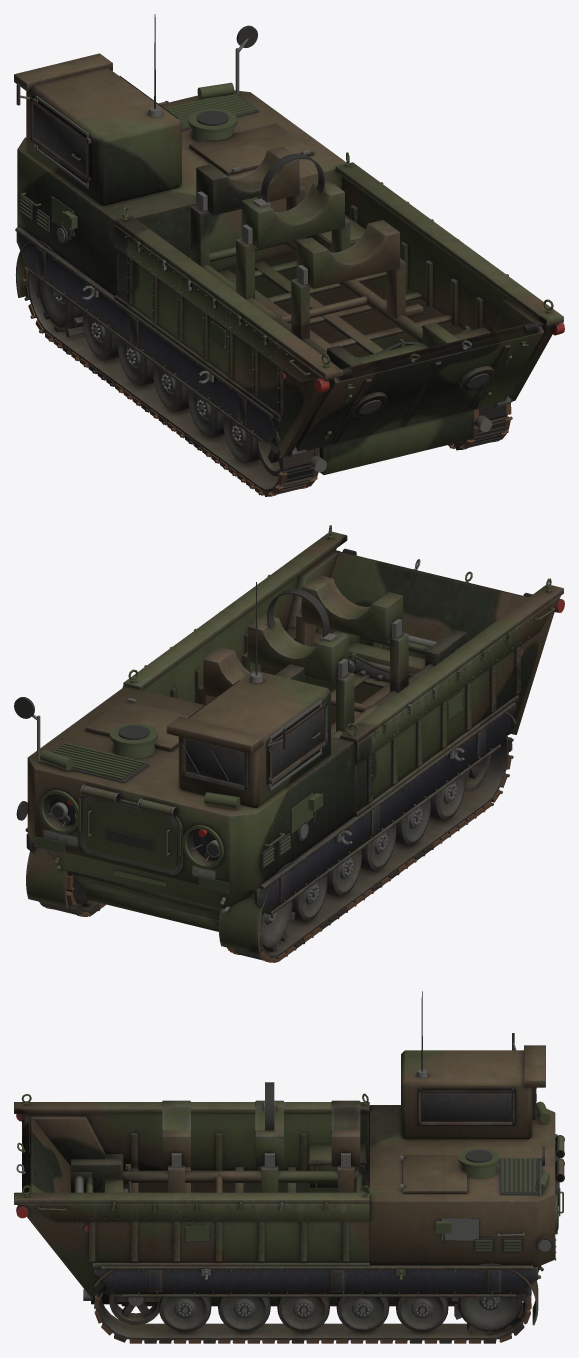
Rendered from l_lance.glb.
The picture shows the model from 3 angles, top to bottom: view 1: azimuth 30°, elevation 25°; view 2: azimuth 150°, elevation 25°; view 3: azimuth 270°, elevation 25°; orthographic projection. The views are drawn at different scales.
Visible parts, largest first — view 1: body|M752_body, pod|M752_body, rampA|M752_body, body|M752_dark, body|M752_skirt, body|M752_bodyF, body|M752_wheel, body|M752_steelF, body|M752_tread2, body|M752_darkF, body|M752_tread1, body|M752_steel (+5 smaller); view 2: body|M752_body, body|M752_dark, pod|M752_body, body|M752_skirt, rampB|M752_body, body|M752_bodyF, body|M752_darkF, body|M752_wheel, body|M752_steel, body|M752_steelF, body|M752_tread2, body|M752_tread1 (+1 smaller); view 3: body|M752_body, body|M752_skirt, body|M752_dark, pod|M752_body, body|M752_wheel, body|M752_bodyF, rampB|M752_body, body|M752_steel, body|M752_darkF, body|M752_steelF, body|M752_tread2, body|M752_tread1 (+2 smaller).
Part boxes in pixels (x1,y1,x2,y2): body|M752_body: (14, 53, 563, 474); pod|M752_body: (189, 146, 423, 358); rampA|M752_body: (295, 322, 543, 451); body|M752_dark: (27, 98, 507, 491); body|M752_skirt: (15, 227, 280, 443); body|M752_bodyF: (19, 82, 553, 431); body|M752_wheel: (40, 281, 249, 458); body|M752_steelF: (20, 38, 409, 441); body|M752_tread2: (22, 267, 512, 496); body|M752_darkF: (16, 14, 467, 353); body|M752_tread1: (24, 267, 508, 494); body|M752_steel: (54, 100, 492, 472); body|M752_body: (26, 531, 563, 955); body|M752_dark: (43, 670, 508, 957); pod|M752_body: (197, 575, 467, 737); body|M752_skirt: (25, 702, 515, 915); rampB|M752_body: (316, 551, 528, 641); body|M752_bodyF: (34, 525, 555, 900); body|M752_darkF: (14, 582, 414, 868); body|M752_wheel: (260, 775, 464, 942); body|M752_steel: (80, 659, 473, 924); body|M752_steelF: (32, 644, 497, 921); body|M752_tread2: (45, 755, 513, 962); body|M752_tread1: (39, 737, 513, 951); body|M752_body: (14, 1045, 564, 1325); body|M752_skirt: (94, 1265, 537, 1296); body|M752_dark: (98, 1087, 535, 1340); pod|M752_body: (70, 1100, 362, 1192); body|M752_wheel: (163, 1297, 515, 1329); body|M752_bodyF: (21, 1093, 563, 1293); rampB|M752_body: (26, 1117, 70, 1192); body|M752_steel: (83, 1135, 564, 1318); body|M752_darkF: (127, 991, 559, 1253); body|M752_steelF: (138, 1043, 556, 1316); body|M752_tread2: (94, 1288, 531, 1343); body|M752_tread1: (95, 1309, 524, 1343).
Size of the model in its own units: 3.04 by 3.72 by 6.51.
Materials: 23 (12 with a texture image).
